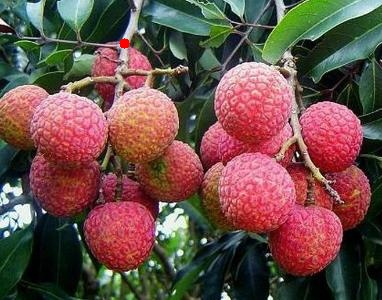litchi: (6, 55, 196, 261), (196, 67, 368, 261)
stem: (104, 1, 141, 87), (273, 1, 298, 74)
